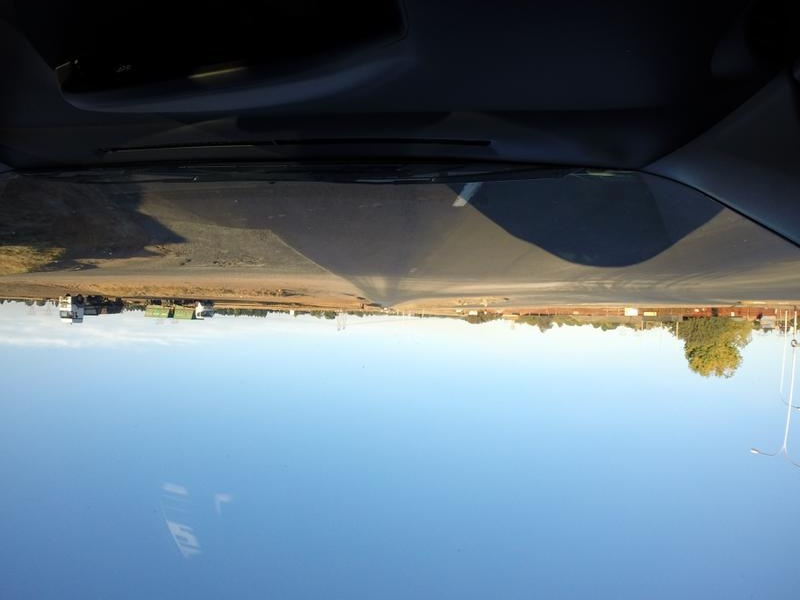pothole: (214, 260, 262, 268), (177, 256, 192, 267)
